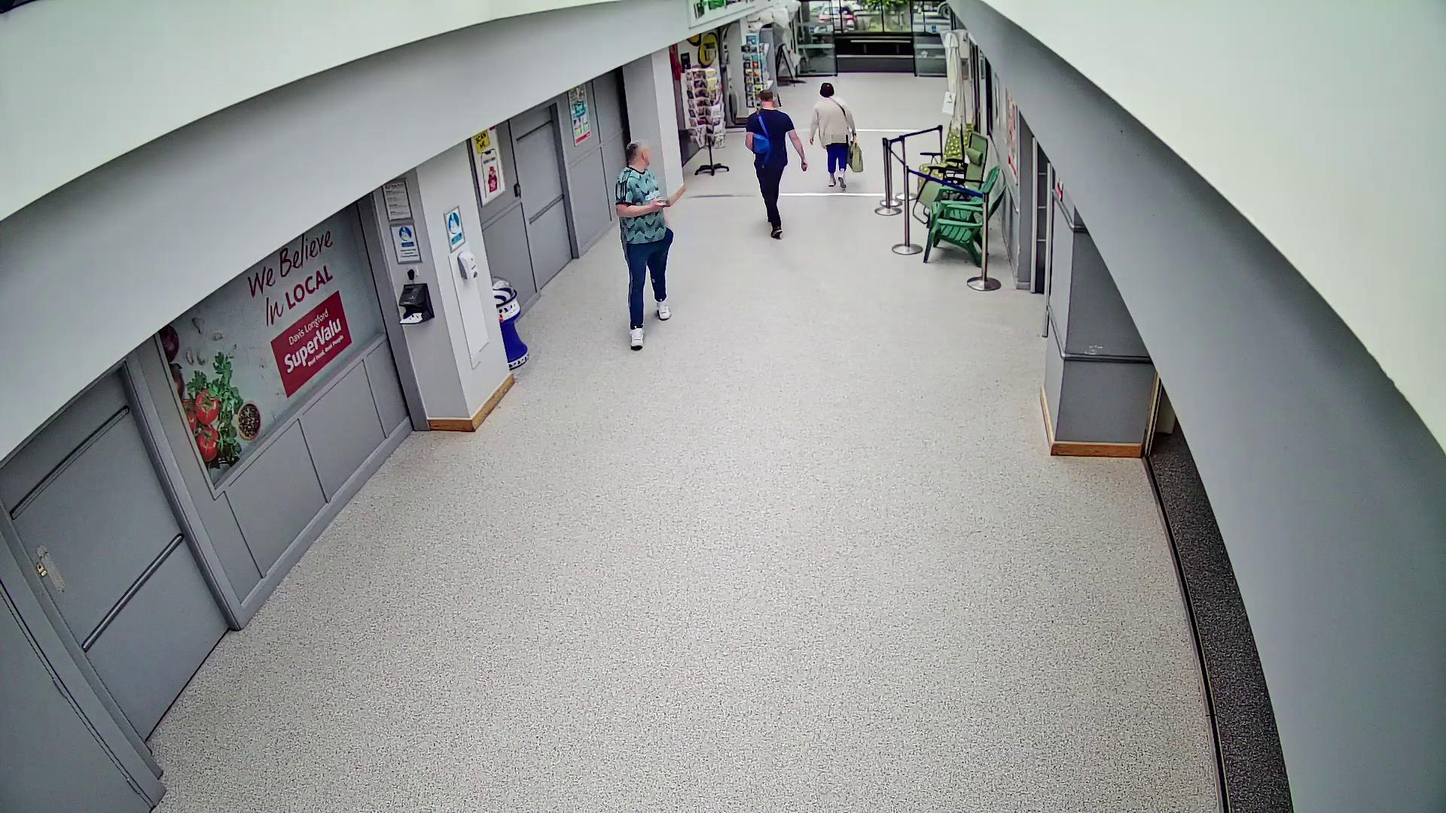filled-shopping-bags: (848, 139, 863, 174)
person: (746, 88, 807, 238), (809, 82, 857, 189)
person-with-backpack-handbag: (746, 89, 807, 238)
person-with-filled-shopping-bag-s-: (810, 82, 863, 189)
